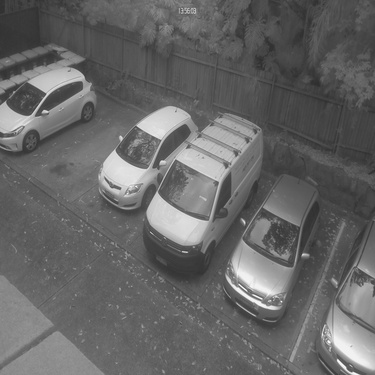car: (216, 167, 327, 327), (94, 97, 203, 214), (2, 60, 101, 163), (314, 217, 369, 372)
